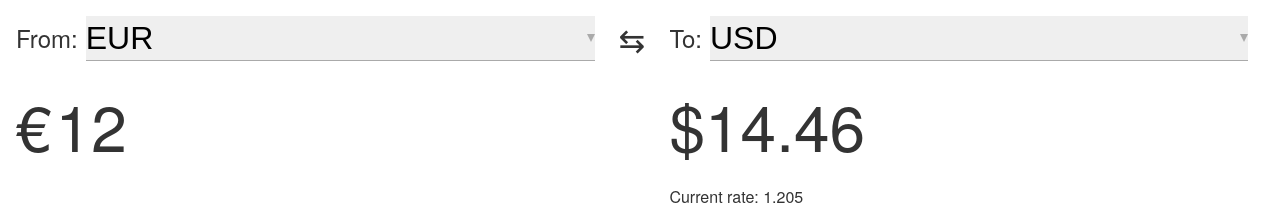
Test case: Convertor › allow to convert on submit
This screenshot has width=1265, height=224.
Expected: the text "1.205" is shown, [763, 185, 803, 208]
Type "10" into the field labelled "€" at (325, 125), box [56, 85, 595, 165]
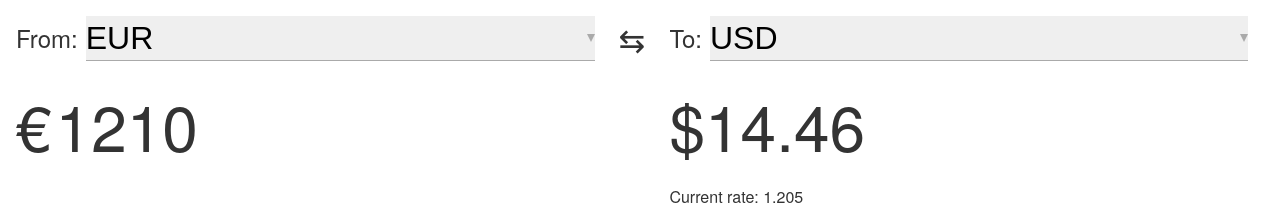
Submit the form from the field labelled "€", box [56, 85, 595, 165]
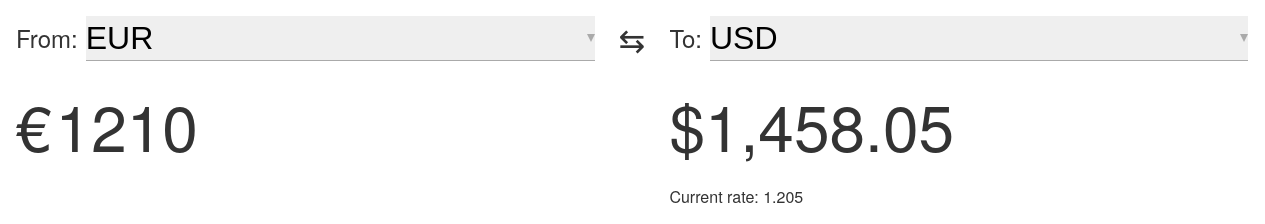
Now the text "$1,458.05" is shown, box [669, 79, 954, 170]
